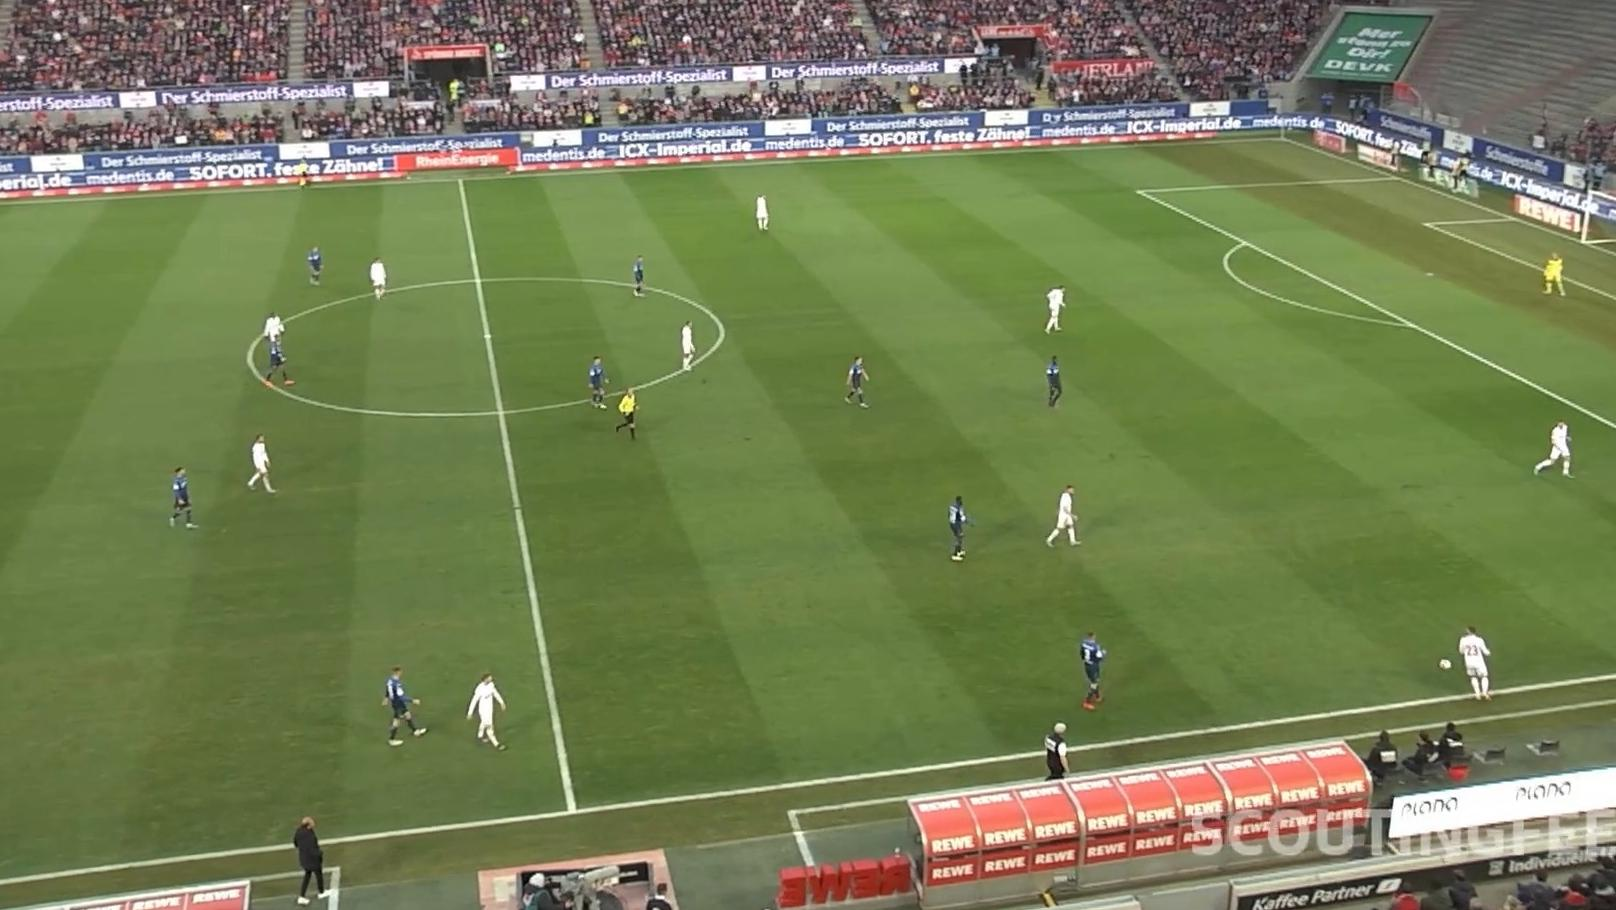ball: (1437, 657, 1454, 671)
